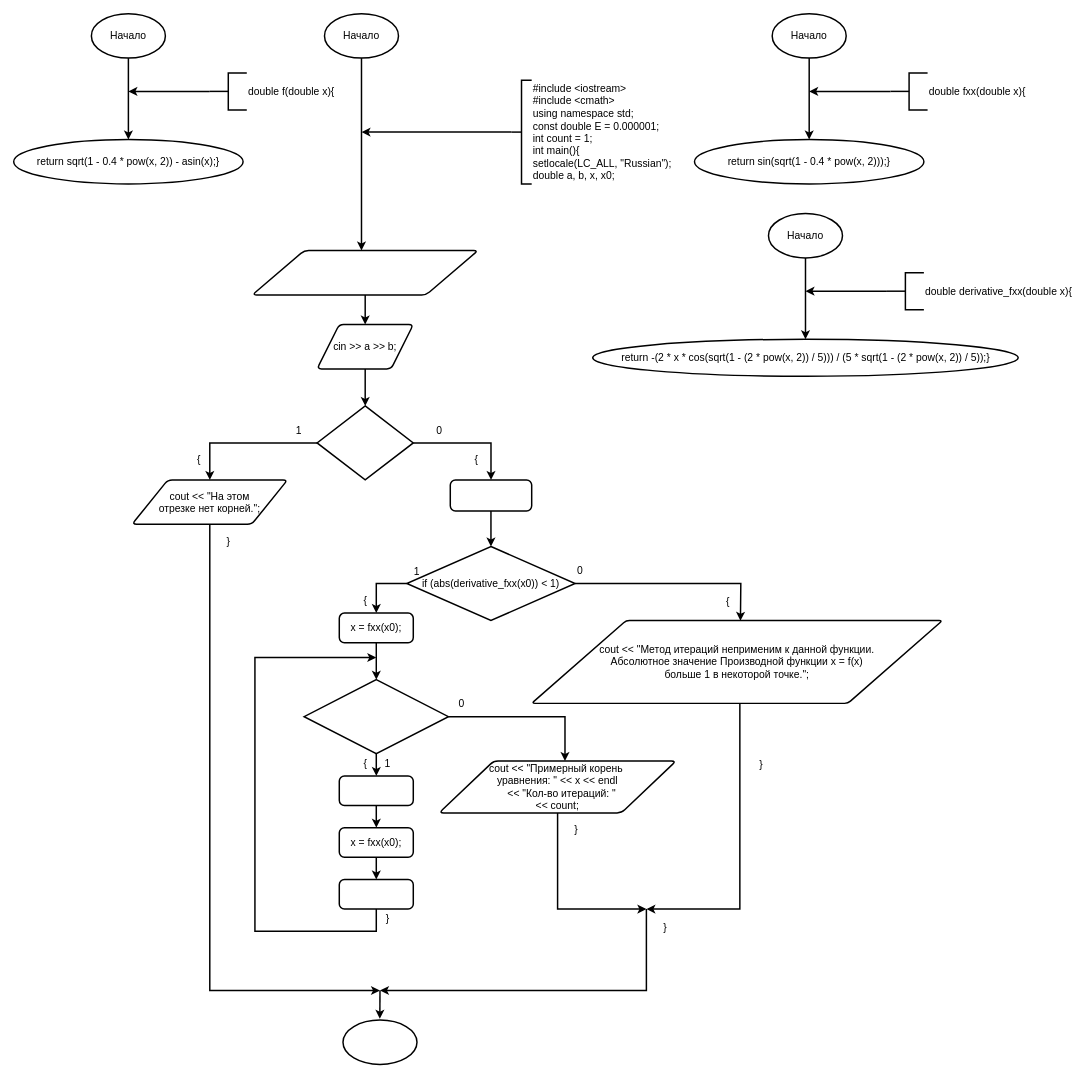
This 1084x1077 diagram has some shape labels left out. Each missing label, with the centre of its shape:
count++;: the point at 376,893
cout << "Введите отрезок [a;b], на котором есть корень: ";: the point at 364,272
if (f(a) * f(b) > 0): the point at 365,442
return 0;}: the point at 379,1042
while (abs(x - x0) > E): the point at 376,716
x0 = (a + b) / 2;: the point at 490,495
x0 = x;: the point at 376,790
